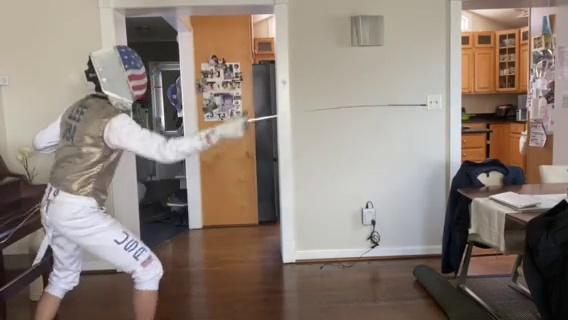blade-guard: (238, 109, 253, 133)
blade-tip: (378, 103, 429, 109)
fencing-blade: (228, 100, 431, 135)
